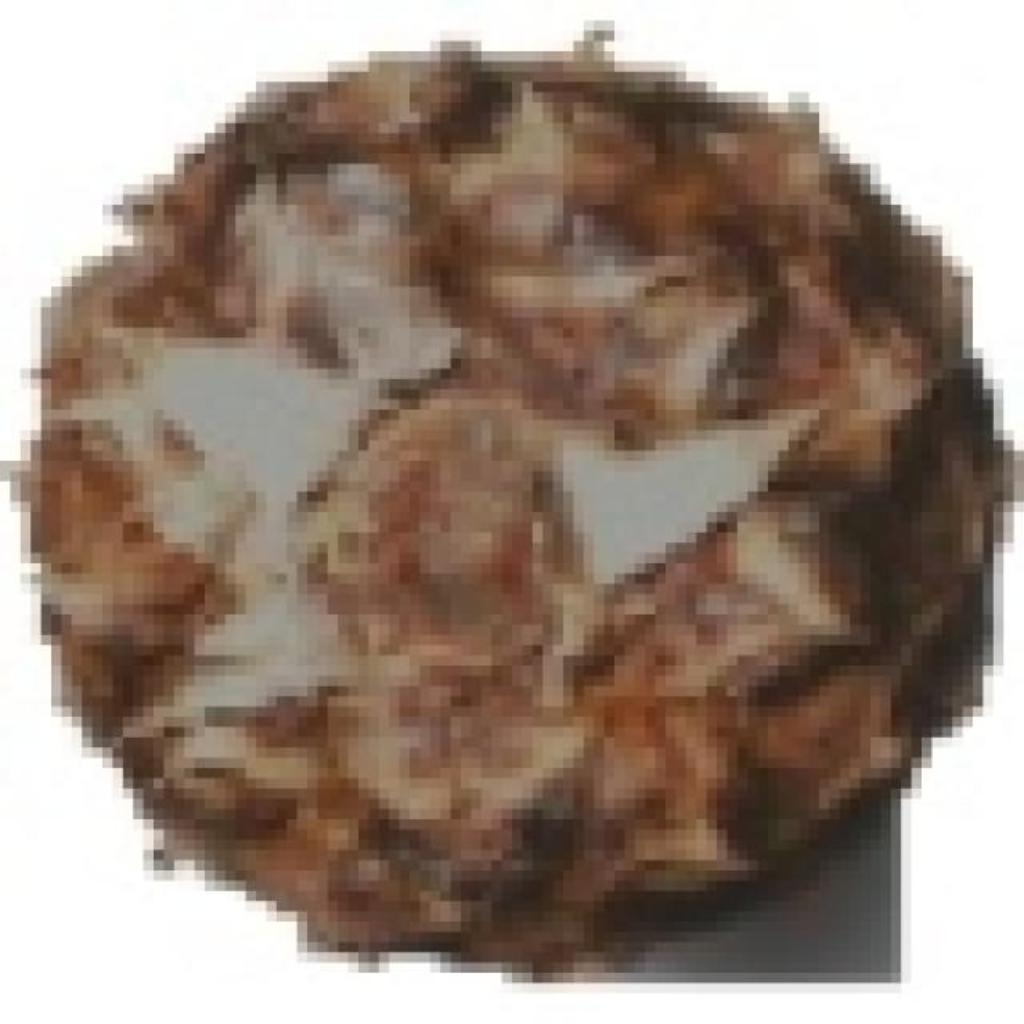pineapple: (20, 31, 983, 952)
